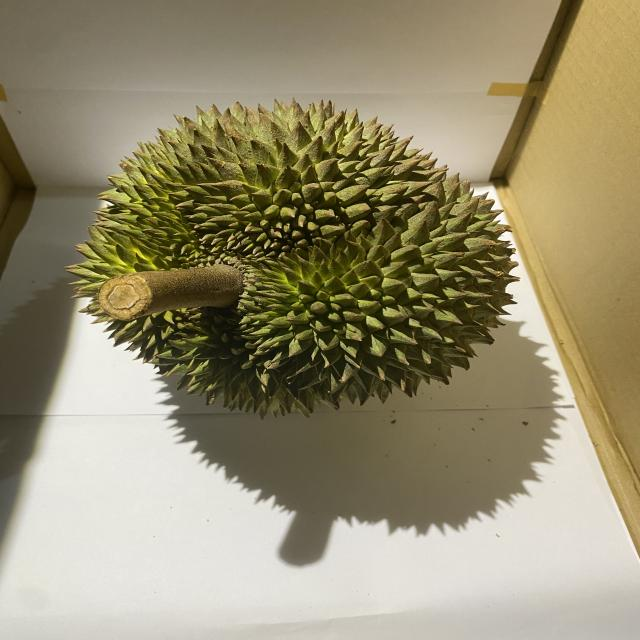immature: (63, 102, 524, 418)
